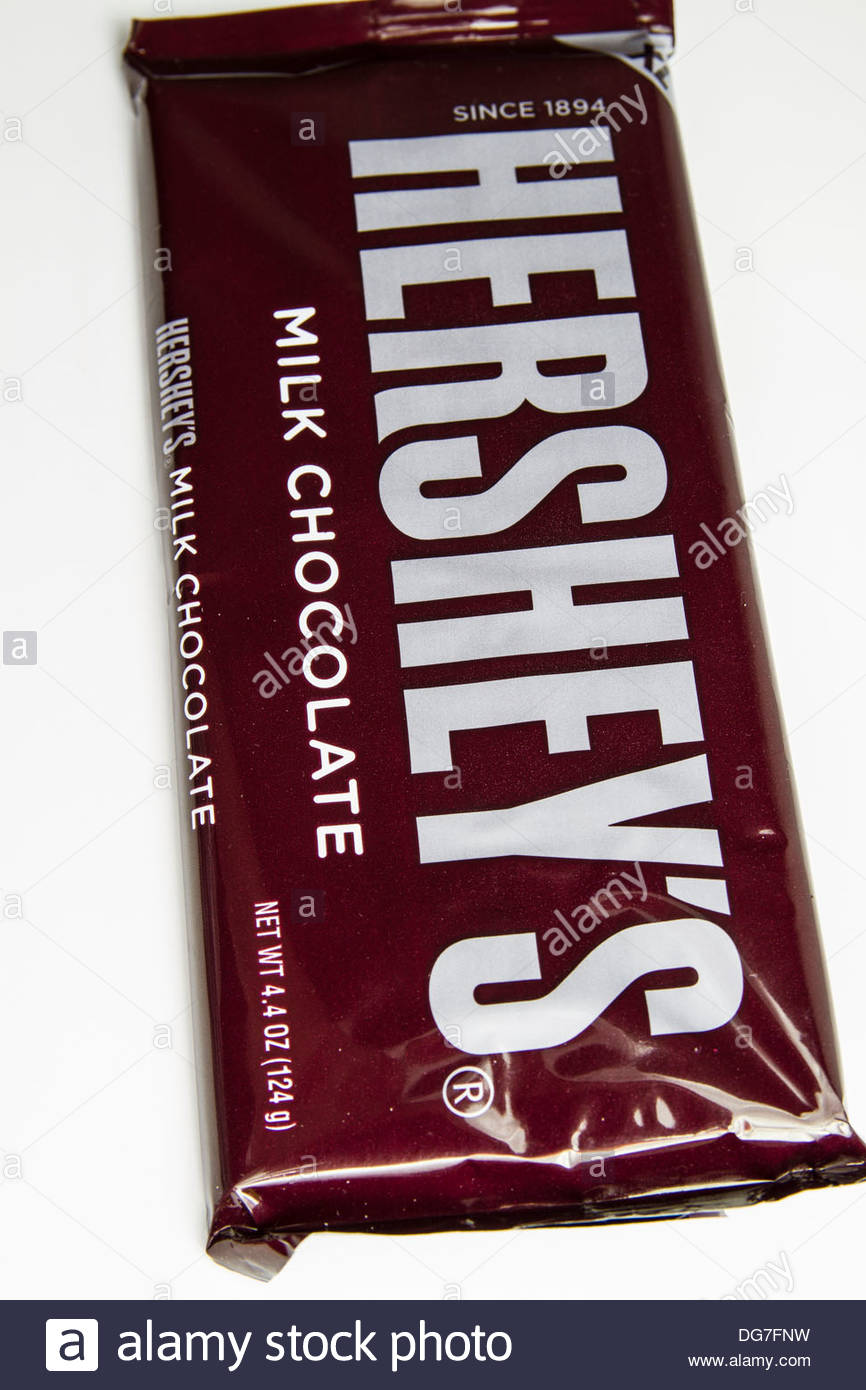hershey: (101, 7, 864, 1230)
